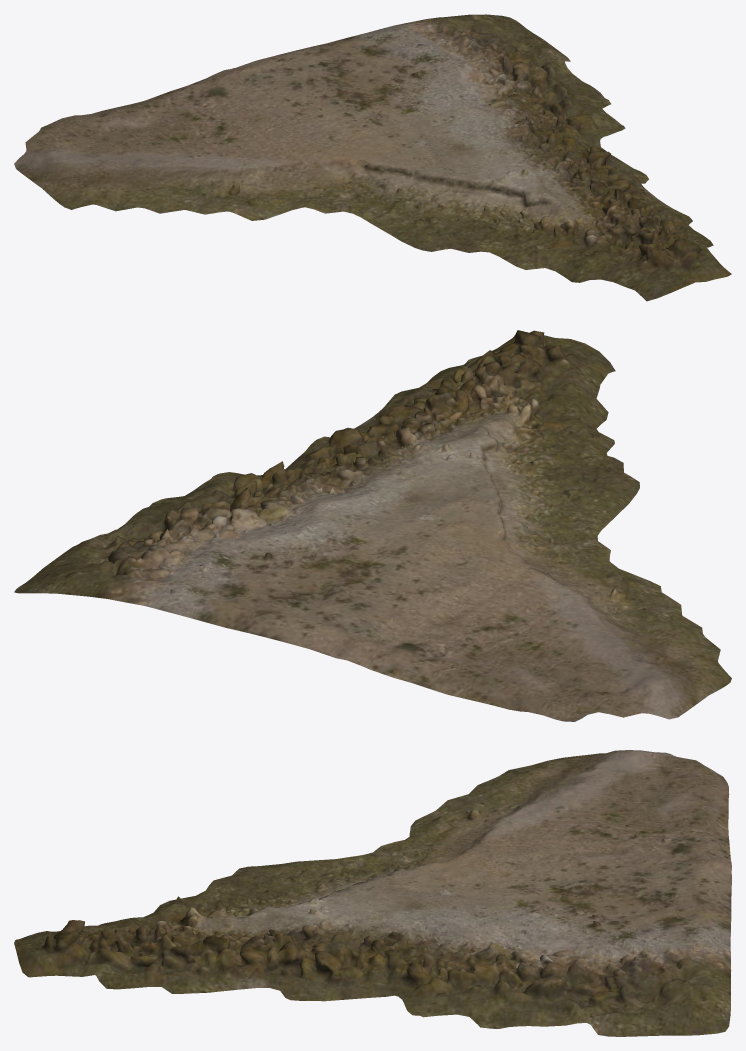
The model's file is coast_rocks_02.glb.
3 views of the same model, one above another, from view 1: azimuth 30°, elevation 25°; view 2: azimuth 150°, elevation 25°; view 3: azimuth 270°, elevation 25° (orthographic). The views are drawn at different scales.
Visible parts, largest first — view 1: coast_rocks_02_lo; view 2: coast_rocks_02_lo; view 3: coast_rocks_02_lo.
Boxes of the visible parts, box(x1,y1,x2,y2) form: coast_rocks_02_lo: box(14, 14, 731, 301); coast_rocks_02_lo: box(14, 330, 731, 721); coast_rocks_02_lo: box(14, 750, 731, 1036).
Bounding box in the file's own units: 45.97 × 3.18 × 49.47.
1 material, 1 textured.
